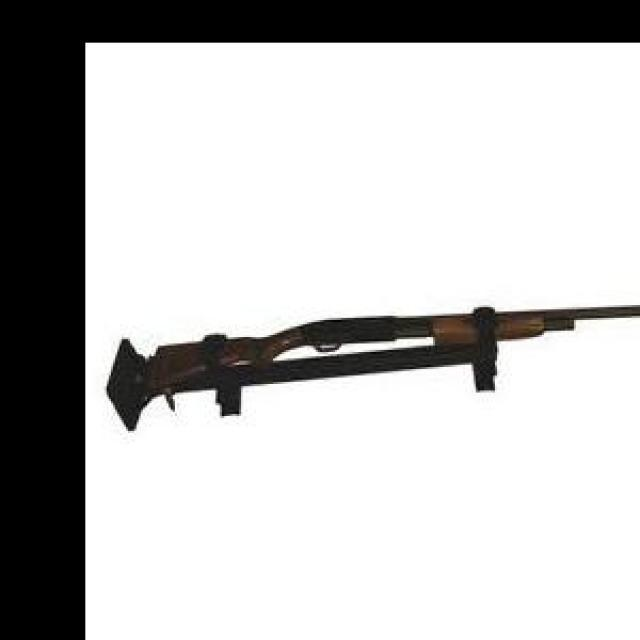weapon: (147, 305, 640, 392)
